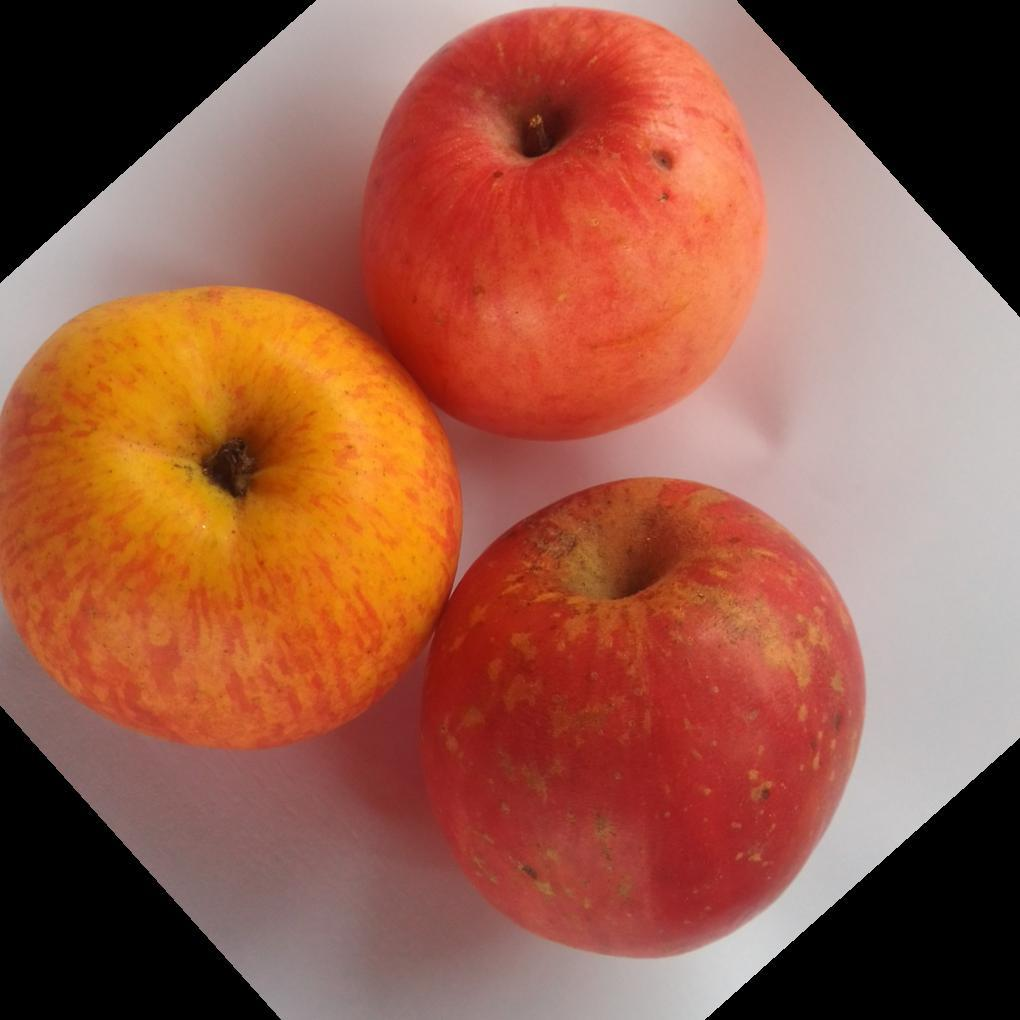FreshGuava: (0, 7, 866, 960)
